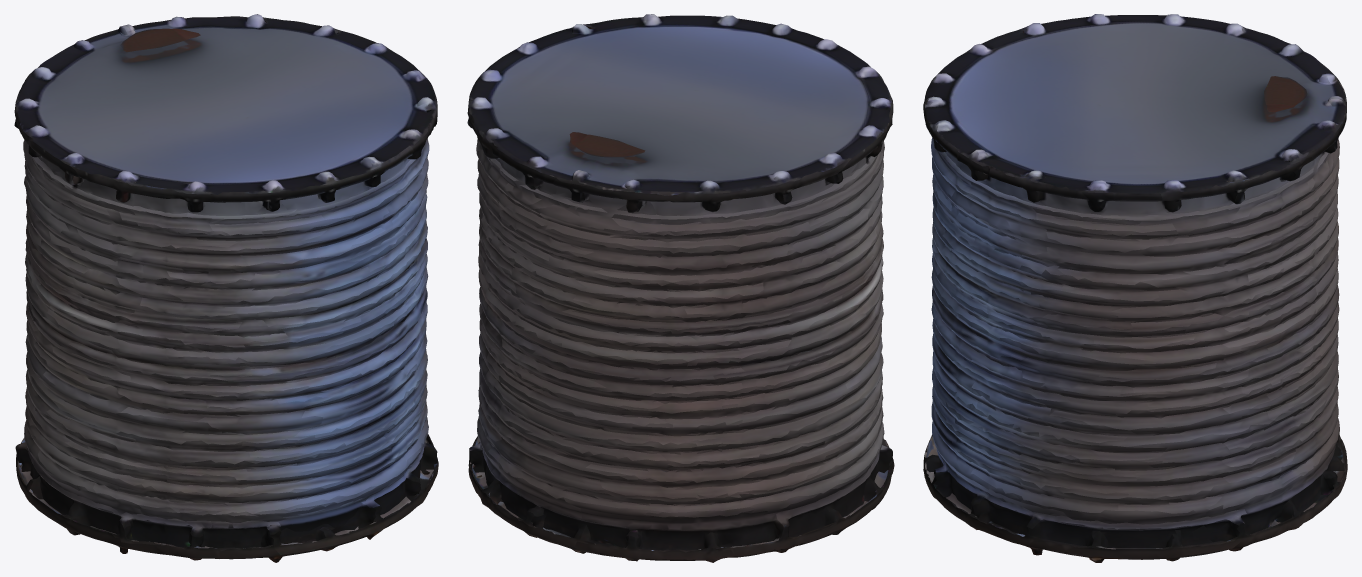
File: silo_granos.glb
3 renders of one model, left to right at view 1: azimuth 30°, elevation 25°; view 2: azimuth 150°, elevation 25°; view 3: azimuth 270°, elevation 25°, orthographic.
Parts seen in each view (by area): view 1: tmp1fmh3b__.ply; view 2: tmp1fmh3b__.ply; view 3: tmp1fmh3b__.ply.
Boxes of the visible parts, x1,y1,x2,y2 form: tmp1fmh3b__.ply: (14, 14, 438, 562); tmp1fmh3b__.ply: (467, 14, 894, 562); tmp1fmh3b__.ply: (923, 14, 1347, 562).
Size of the model in its own units: 0.9885 by 1 by 0.9925.
Materials: 1 (1 with a texture image).
